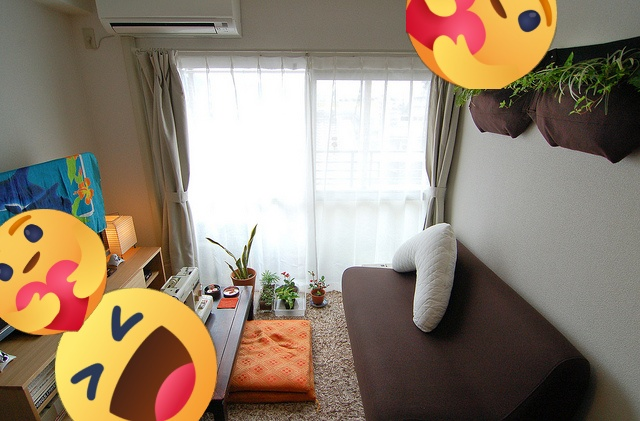care: (0, 209, 107, 335), (406, 0, 557, 89)
haha: (55, 288, 217, 421)
